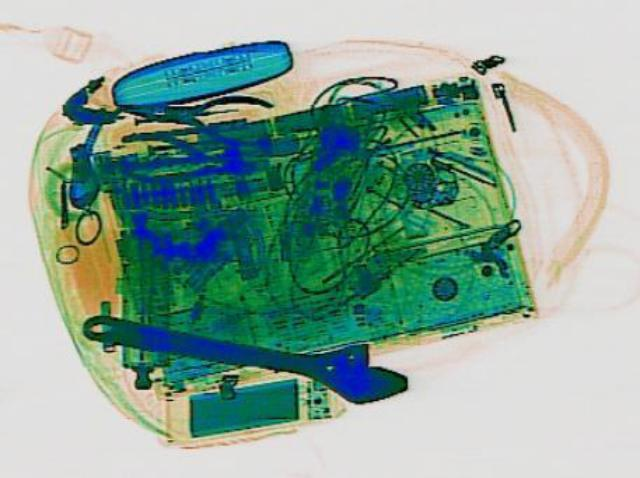Pliers: (110, 80, 272, 147), (111, 129, 255, 188)
Wrench: (70, 292, 418, 407)
